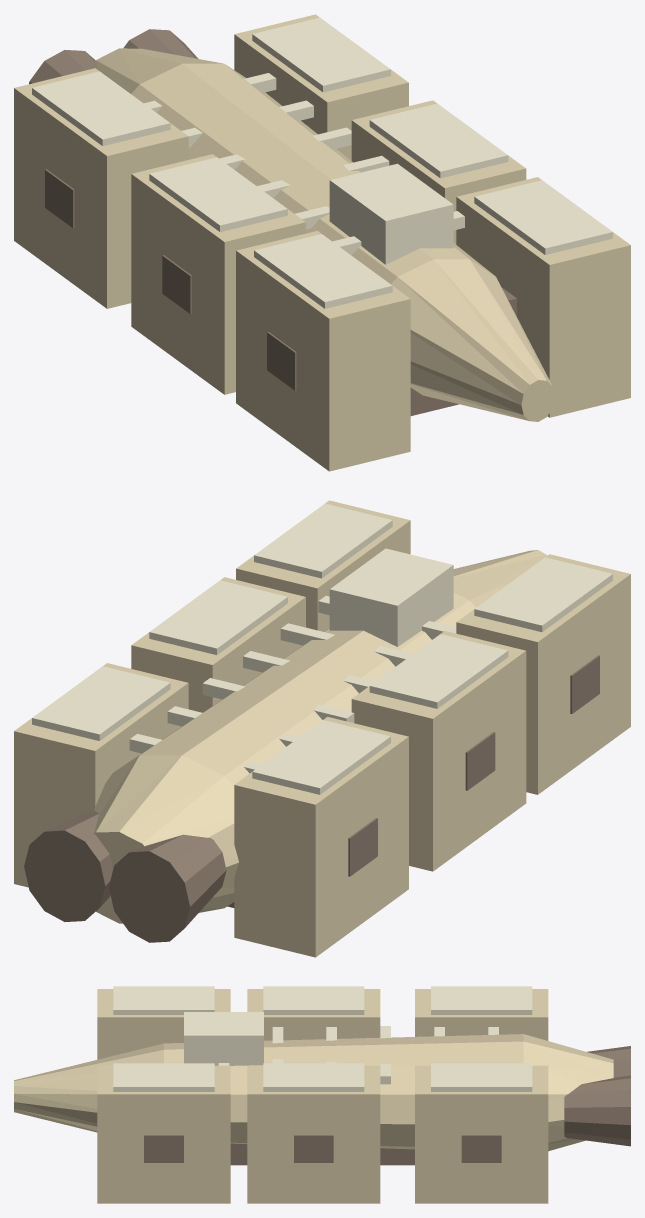
The picture shows the model from 3 angles, top to bottom: view 1: azimuth 30°, elevation 25°; view 2: azimuth 150°, elevation 25°; view 3: azimuth 270°, elevation 25°; orthographic projection. The views are drawn at different scales.
Bounding box in the file's own units: 3.74 × 2.08 × 9.17.
